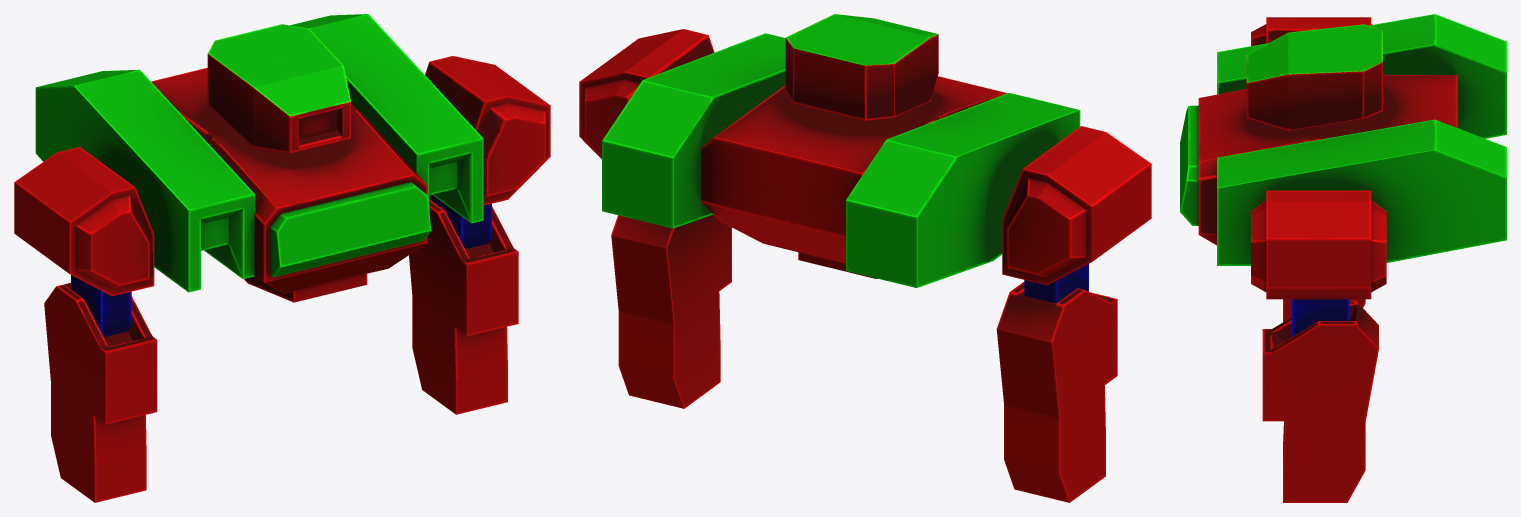
The model's file is medbot.glb.
The picture shows the model from 3 angles, left to right: view 1: azimuth 30°, elevation 25°; view 2: azimuth 150°, elevation 25°; view 3: azimuth 270°, elevation 25°; orthographic projection. The views are drawn at different scales.
Parts seen in each view (by area): view 1: Cube.043; view 2: Cube.043; view 3: Cube.043.
Part boxes in pixels (x1,y1,x2,y2): Cube.043: (14,14,550,502); Cube.043: (579,14,1151,502); Cube.043: (1180,14,1506,502).
Bounding box in the file's own units: 4.9 × 3.71 × 3.05.
1 material, 1 textured.
